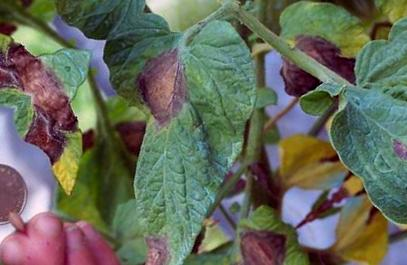Tomato leaf late blight: (7, 0, 346, 265), (0, 10, 209, 209), (283, 30, 407, 190)
